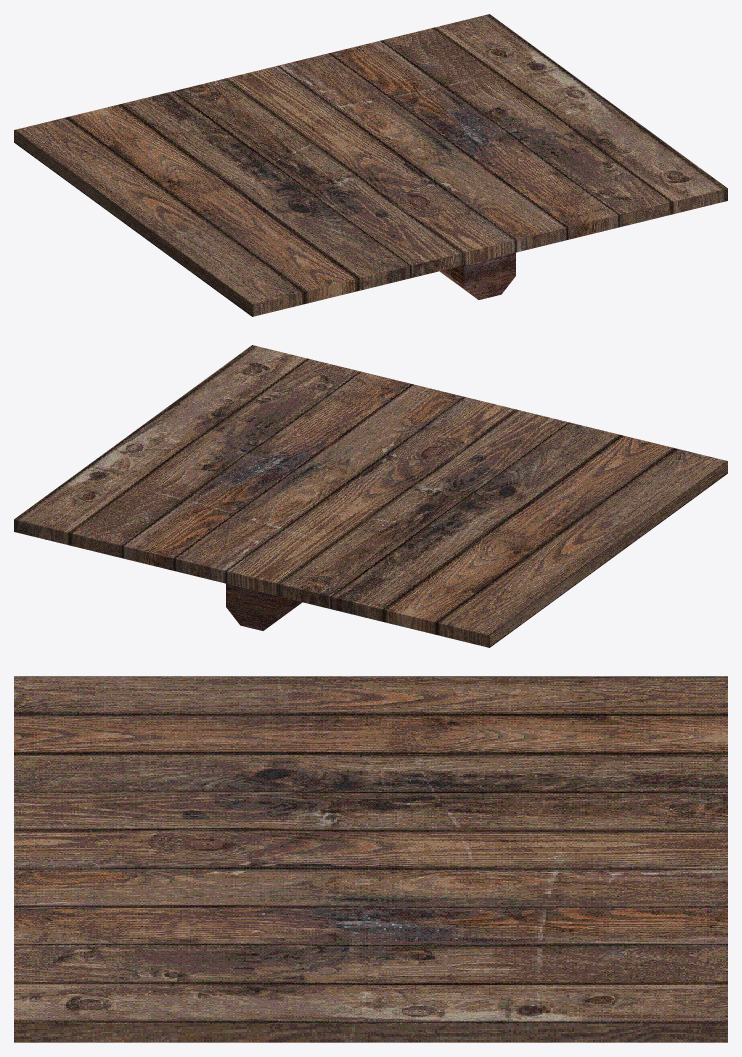
Rendered from ceiling-beamS.glb.
3 views of the same model, one above another, from view 1: azimuth 30°, elevation 25°; view 2: azimuth 150°, elevation 25°; view 3: azimuth 270°, elevation 25° (orthographic). The views are drawn at different scales.
Visible parts, largest first — view 1: ceiling-beamS.001; view 2: ceiling-beamS.001; view 3: ceiling-beamS.001.
Part boxes in pixels (x1,y1,x2,y2): ceiling-beamS.001: [14, 14, 727, 316]; ceiling-beamS.001: [14, 345, 727, 647]; ceiling-beamS.001: [14, 676, 727, 1042].
Bounding box in the file's own units: 2 × 0.2046 × 1.74.
Materials: 2 (2 with a texture image).
